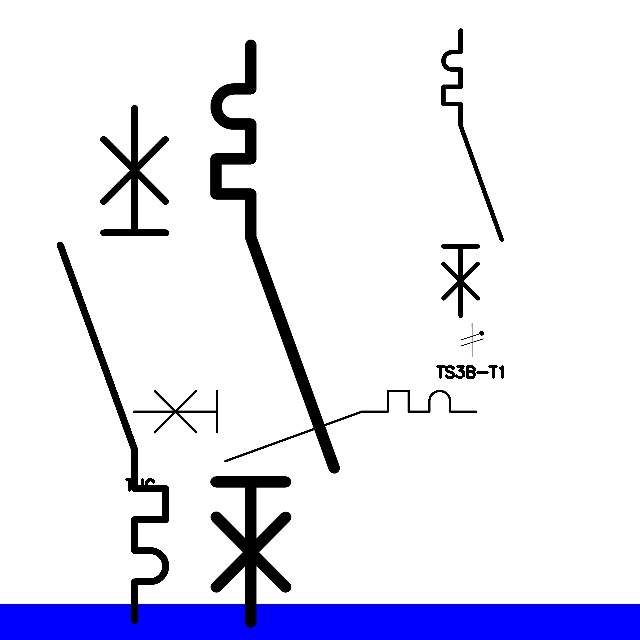interruptor_termomagnetico: (201, 30, 349, 637), (47, 95, 179, 634), (125, 382, 485, 470), (436, 23, 509, 323)
